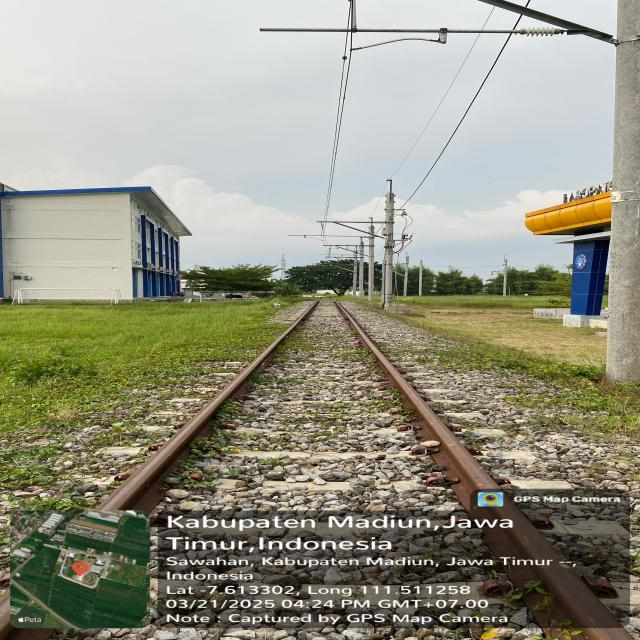rail-detection: (345, 312, 632, 640), (97, 302, 317, 513)
